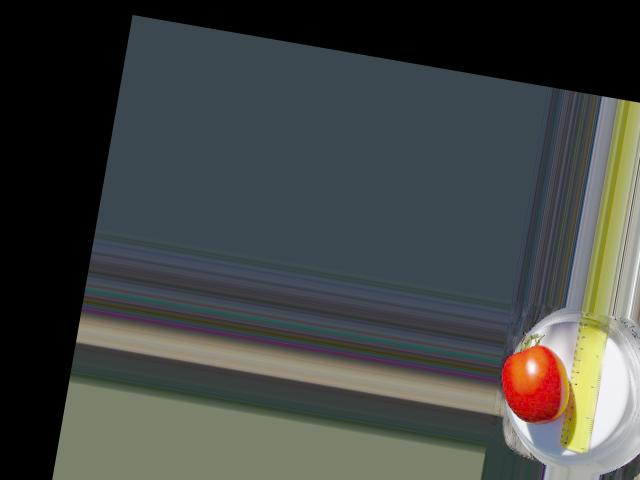tomato: (494, 338, 578, 428)
